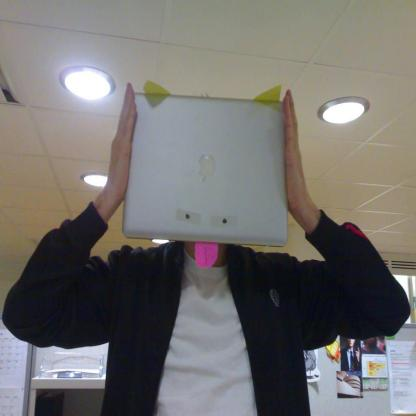board: (109, 94, 308, 256)
